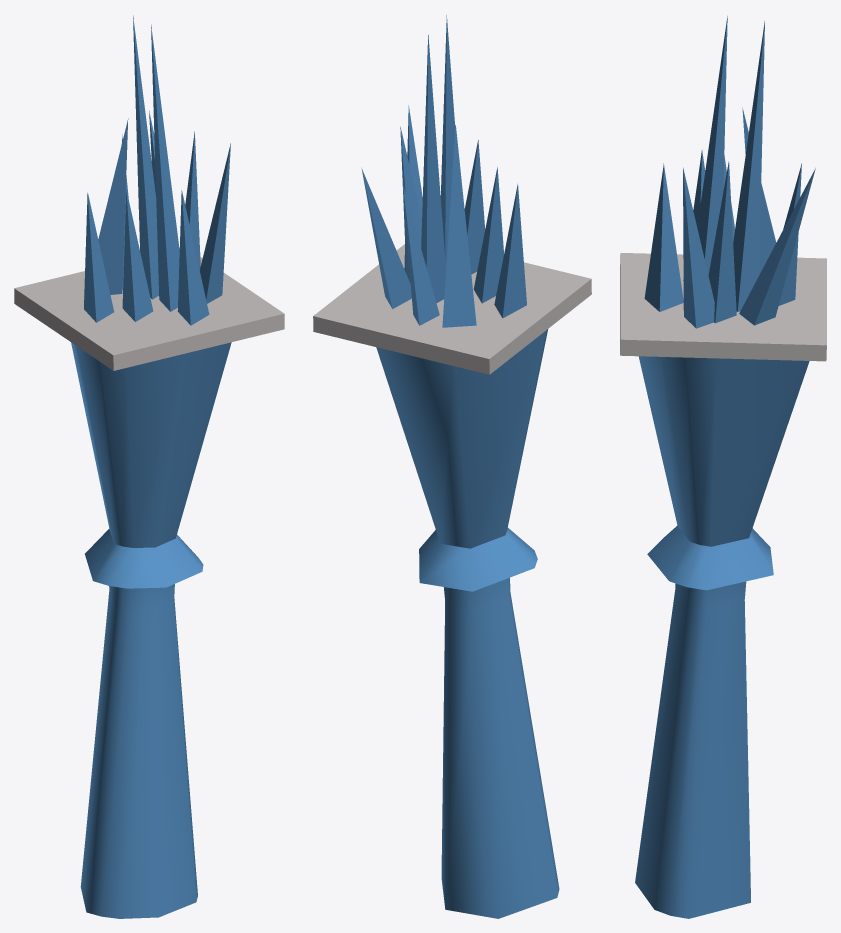
File: Sharpcolumn.fbx
3 renders of one model, left to right at view 1: azimuth 30°, elevation 25°; view 2: azimuth 150°, elevation 25°; view 3: azimuth 270°, elevation 25°, orthographic. The views are drawn at different scales.
Visible parts, largest first — view 1: Icecolumn1; view 2: Icecolumn1; view 3: Icecolumn1.
Boxes of the visible parts, x1,y1,x2,y2 form: Icecolumn1: (14,15,284,918); Icecolumn1: (313,15,591,918); Icecolumn1: (620,16,826,918).
Size of the model in its own units: 7.81 by 37.46 by 7.86.
